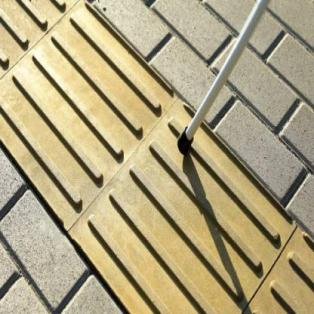Podoctatil: (1, 0, 312, 313)
